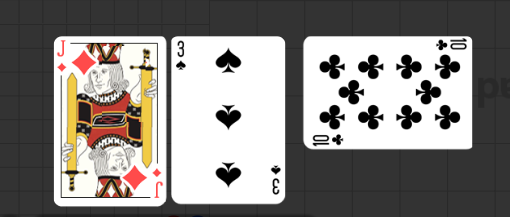10C: (433, 37, 468, 53)
3S: (175, 40, 188, 73)
9D: (54, 39, 67, 73)
